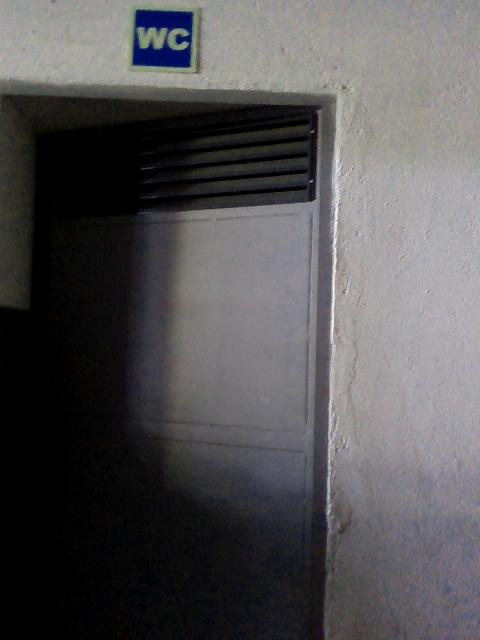closed_door: (26, 107, 317, 639)
